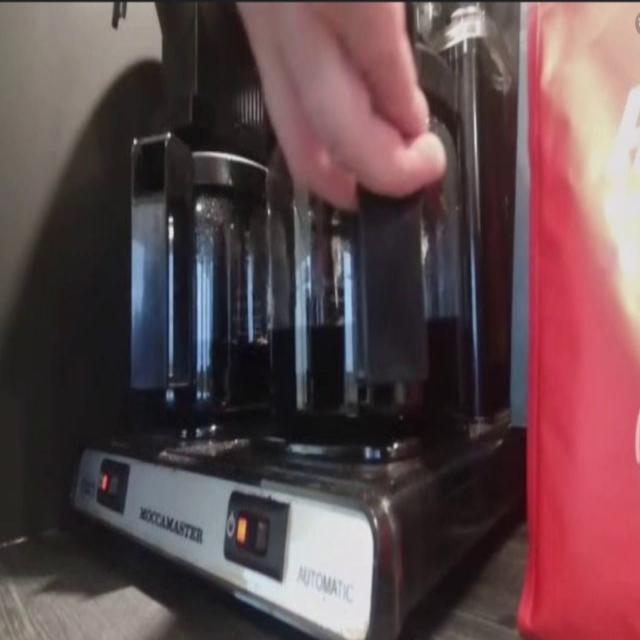coffee: (252, 33, 489, 471), (126, 116, 298, 448)
